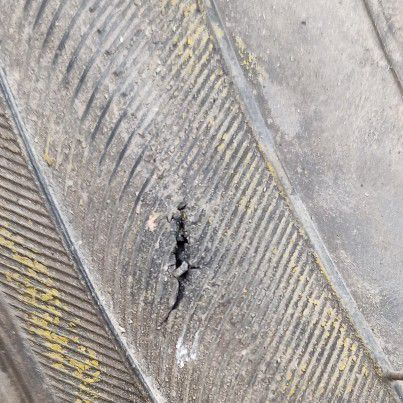cut: (161, 204, 203, 328)
